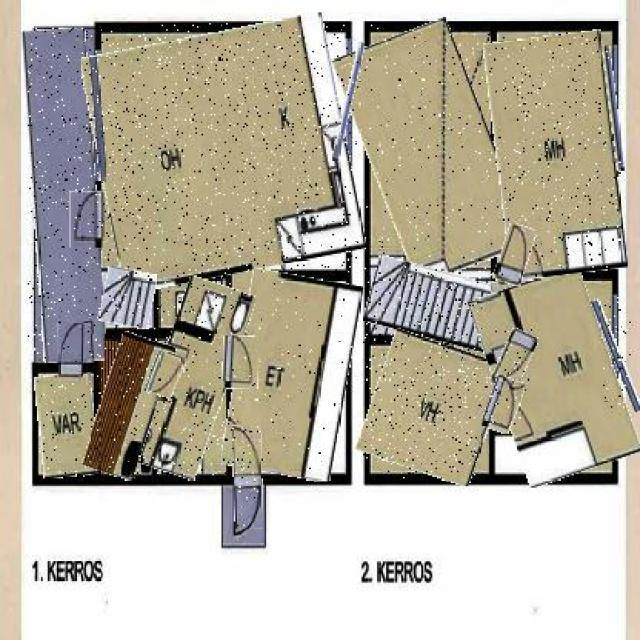door: (234, 425, 261, 529), (495, 330, 534, 392), (69, 190, 105, 248), (498, 225, 532, 286), (485, 376, 520, 432), (57, 323, 88, 385), (223, 337, 259, 389), (150, 354, 184, 400)
window: (602, 297, 630, 414), (338, 42, 358, 160), (606, 45, 622, 172), (92, 57, 103, 180)
zone: (91, 23, 357, 285), (351, 25, 512, 278), (491, 32, 620, 277), (482, 273, 628, 482), (228, 272, 355, 477), (28, 28, 100, 363), (142, 278, 242, 478), (365, 336, 500, 478), (368, 263, 500, 346), (92, 334, 166, 477), (37, 374, 97, 477), (100, 269, 155, 328), (494, 278, 537, 334)
